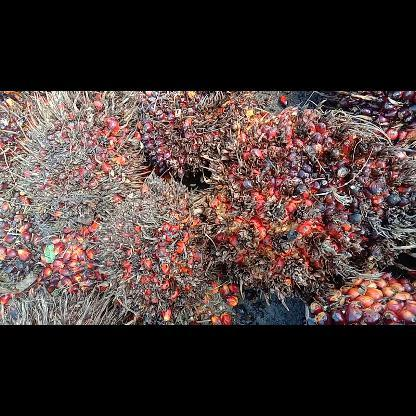Terlalu masak: (204, 103, 414, 313), (0, 90, 157, 242), (89, 165, 237, 324), (134, 90, 260, 182), (296, 264, 416, 324)
